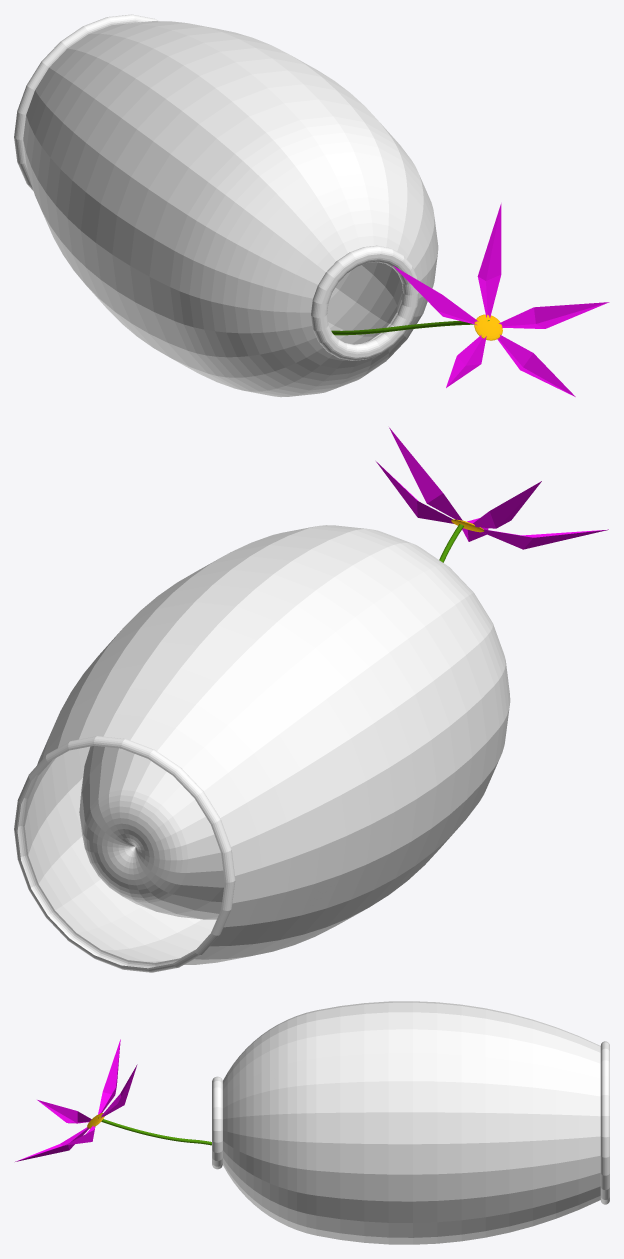
3 views of the same model, one above another, from view 1: azimuth 30°, elevation 25°; view 2: azimuth 150°, elevation 25°; view 3: azimuth 270°, elevation 25° (orthographic). The views are drawn at different scales.
Parts seen in each view (by area): view 1: plant in a pot; view 2: plant in a pot; view 3: plant in a pot.
Boxes of the visible parts, left/top/right/bottom form: plant in a pot: left=14, top=14, right=609, bottom=397; plant in a pot: left=14, top=427, right=608, bottom=972; plant in a pot: left=15, top=1001, right=609, bottom=1244.
Bounding box in the file's own units: 90.54 × 89.34 × 218.
